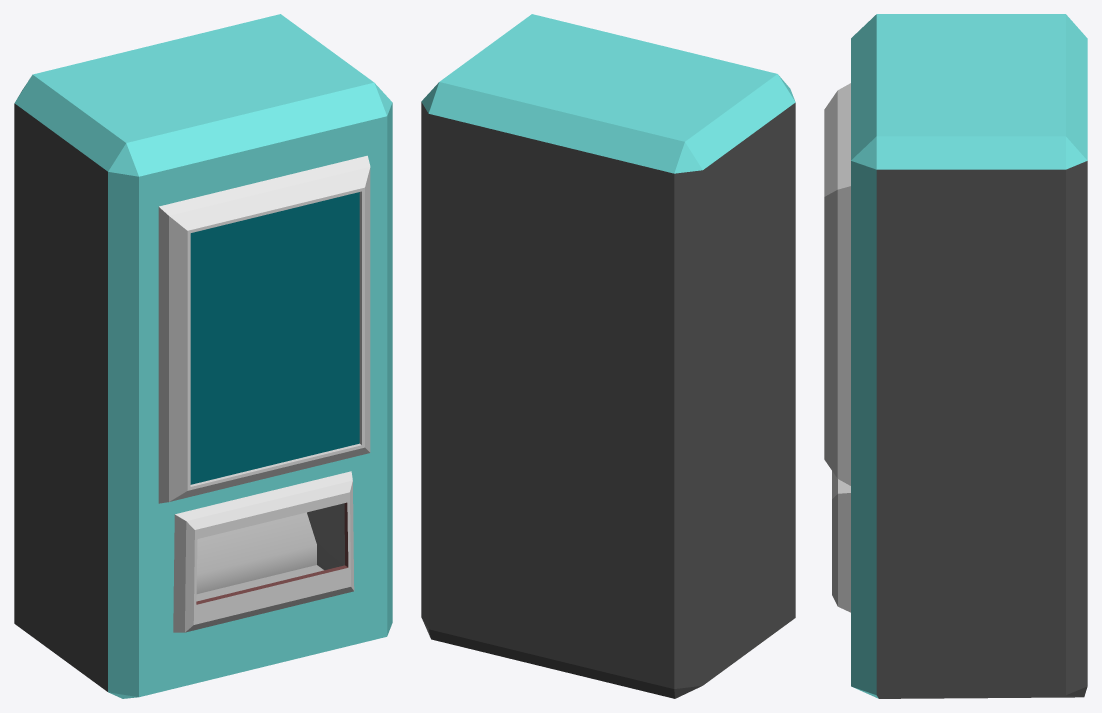
The model's file is VendingMachine.fbx.
3 views of the same model, side by side, from view 1: azimuth 30°, elevation 25°; view 2: azimuth 150°, elevation 25°; view 3: azimuth 270°, elevation 25° (orthographic).
Visible parts, largest first — view 1: vending_machine; view 2: vending_machine; view 3: vending_machine.
Boxes of the visible parts, x1,y1,x2,y2 form: vending_machine: [14, 14, 392, 698]; vending_machine: [421, 14, 795, 698]; vending_machine: [824, 14, 1087, 698].
Size of the model in its own units: 2.57 by 4.81 by 2.04.
